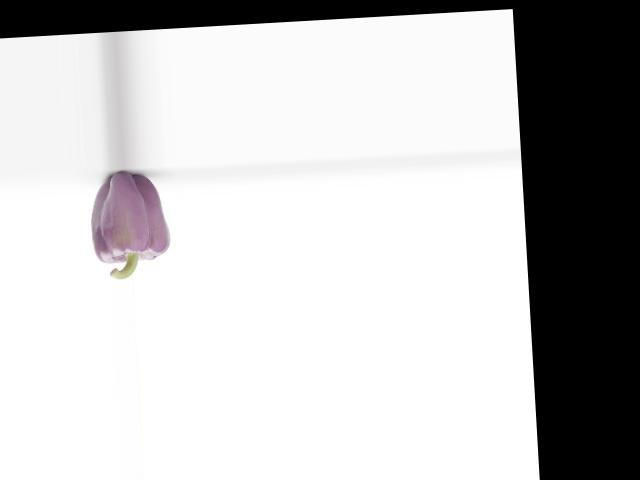bell_pepper: (79, 170, 178, 279)
